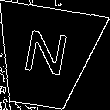N_S: (19, 29, 72, 86)
